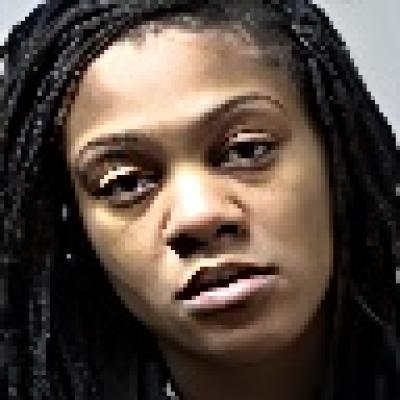sad: (71, 37, 338, 343)
